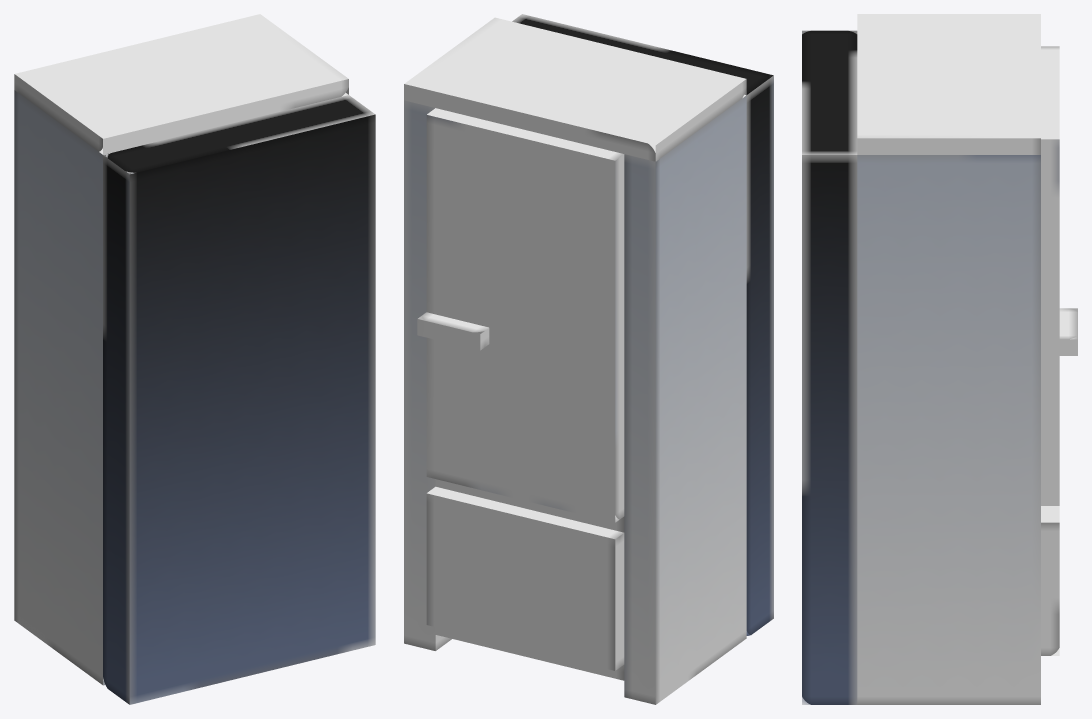
Rendered from Fridge.fbx.
The picture shows the model from 3 angles, left to right: view 1: azimuth 30°, elevation 25°; view 2: azimuth 150°, elevation 25°; view 3: azimuth 270°, elevation 25°; orthographic projection. The views are drawn at different scales.
Parts seen in each view (by area): view 1: cube_5, cube_3, cube_2; view 2: cube_6, cube_3, cube_2, cube_7, cube_5, cube_4, cube_8, cube_1, cube; view 3: cube_4, cube_5, cube_2, cube_6, cube_7, cube_8.
Boxes of the visible parts, x1=… form: cube_5: x1=103, y1=95, x2=375, y2=704; cube_3: x1=14, y1=90, x2=133, y2=685; cube_2: x1=14, y1=14, x2=348, y2=154; cube_6: x1=426, y1=108, x2=624, y2=522; cube_3: x1=624, y1=95, x2=746, y2=704; cube_2: x1=404, y1=17, x2=746, y2=161; cube_7: x1=426, y1=486, x2=624, y2=670; cube_5: x1=512, y1=14, x2=773, y2=635; cube_4: x1=404, y1=100, x2=451, y2=650; cube_8: x1=417, y1=312, x2=489, y2=350; cube_1: x1=435, y1=479, x2=624, y2=532; cube: x1=435, y1=627, x2=624, y2=680; cube_4: x1=857, y1=155, x2=1040, y2=704; cube_5: x1=802, y1=30, x2=857, y2=704; cube_2: x1=857, y1=14, x2=1040, y2=154; cube_6: x1=1041, y1=46, x2=1059, y2=505; cube_7: x1=1041, y1=506, x2=1059, y2=655; cube_8: x1=1059, y1=308, x2=1077, y2=355.
Bounding box in the file's own units: 100 × 212 × 93.75.
1 material, 1 textured.
